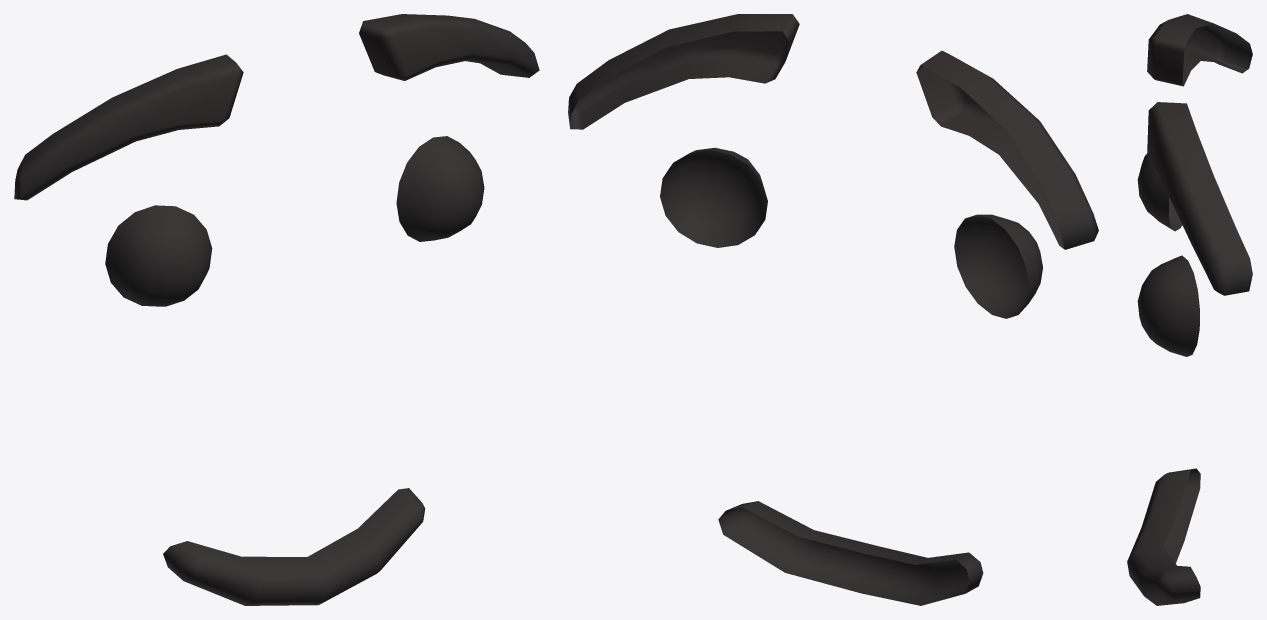
Rendered from male_emotions_usual_001.glb.
3 renders of one model, left to right at view 1: azimuth 30°, elevation 25°; view 2: azimuth 150°, elevation 25°; view 3: azimuth 270°, elevation 25°, orthographic. The views are drawn at different scales.
Parts seen in each view (by area): view 1: Male_emotion_usual_001; view 2: Male_emotion_usual_001; view 3: Male_emotion_usual_001.
Boxes of the visible parts, x1,y1,x2,y2 form: Male_emotion_usual_001: (14, 14, 539, 605); Male_emotion_usual_001: (568, 14, 1098, 605); Male_emotion_usual_001: (1127, 14, 1252, 605).
Size of the model in its own units: 0.1372 by 0.1395 by 0.0308.
Materials: 1 (1 with a texture image).
